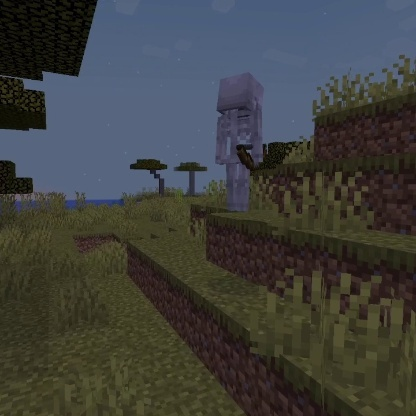skeleton: (211, 69, 270, 217)
